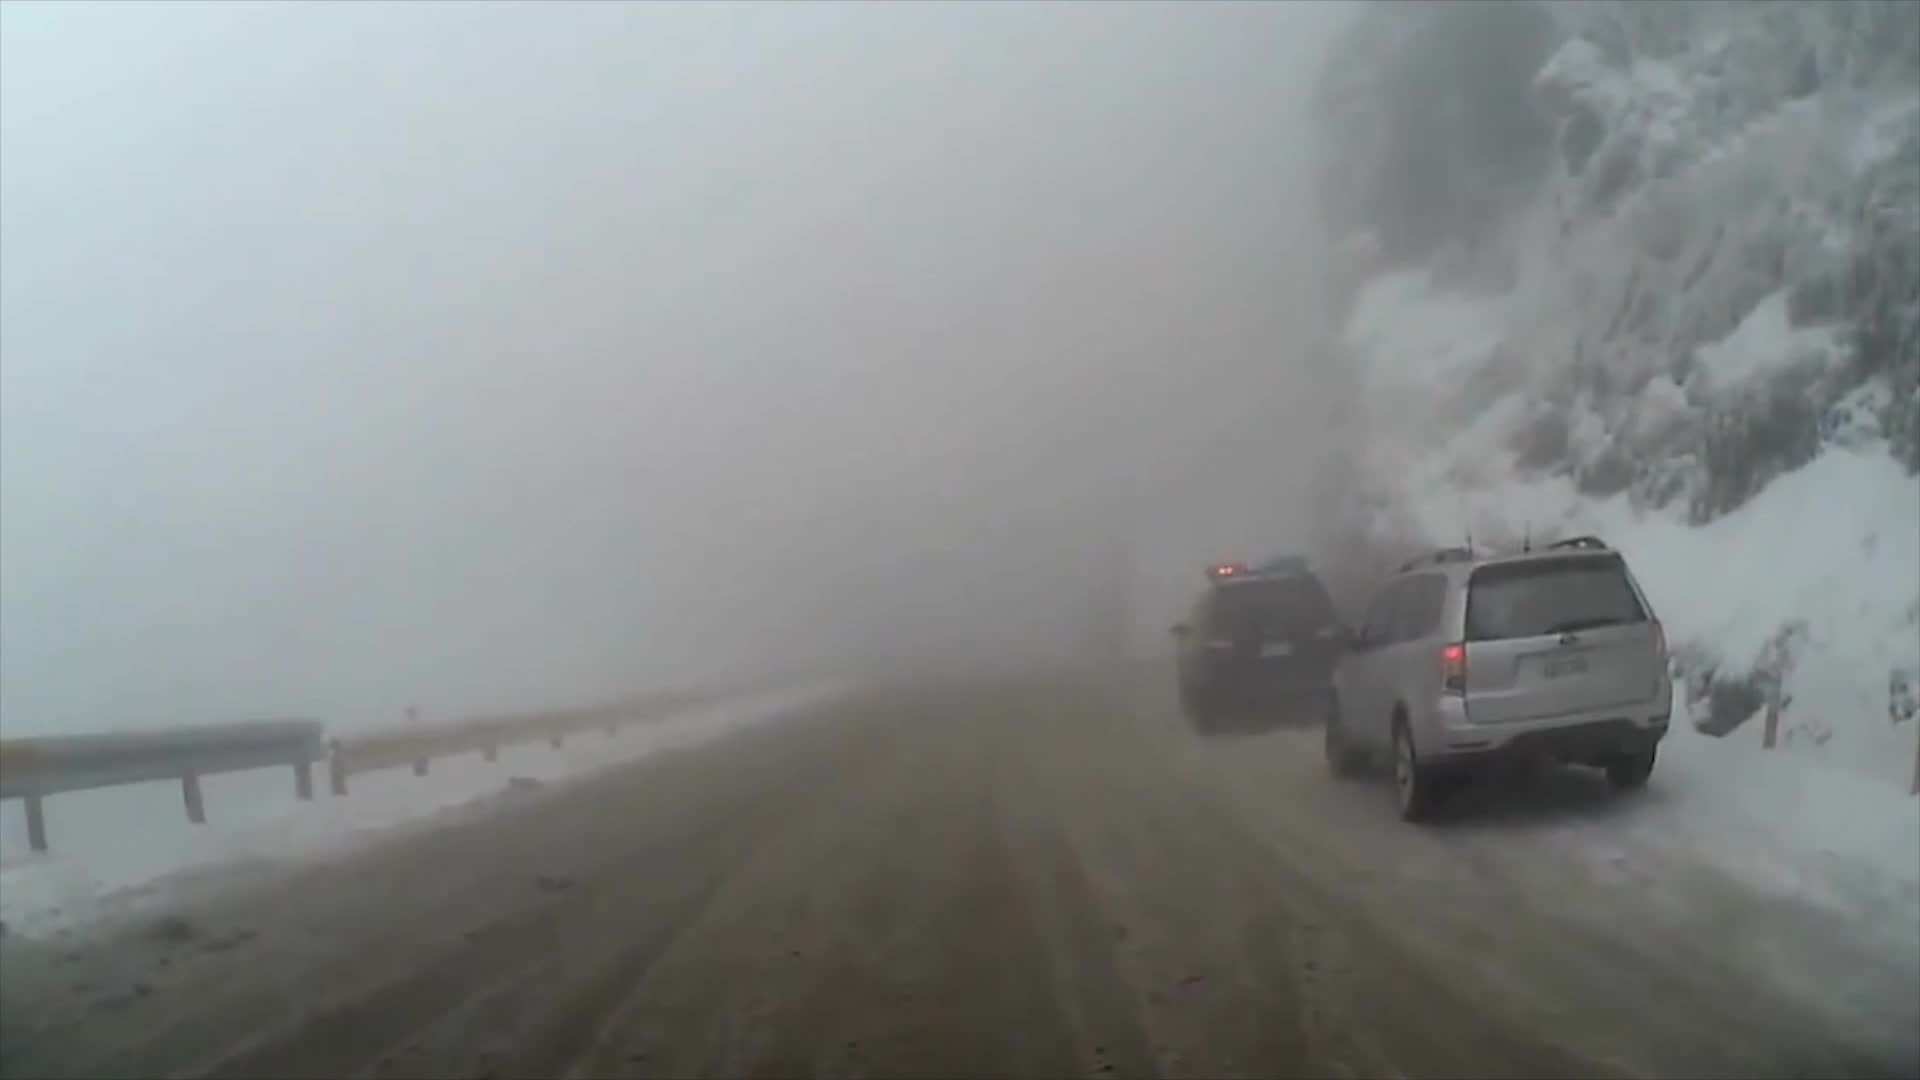vehicle: (1323, 531, 1675, 824), (1167, 549, 1352, 731)
